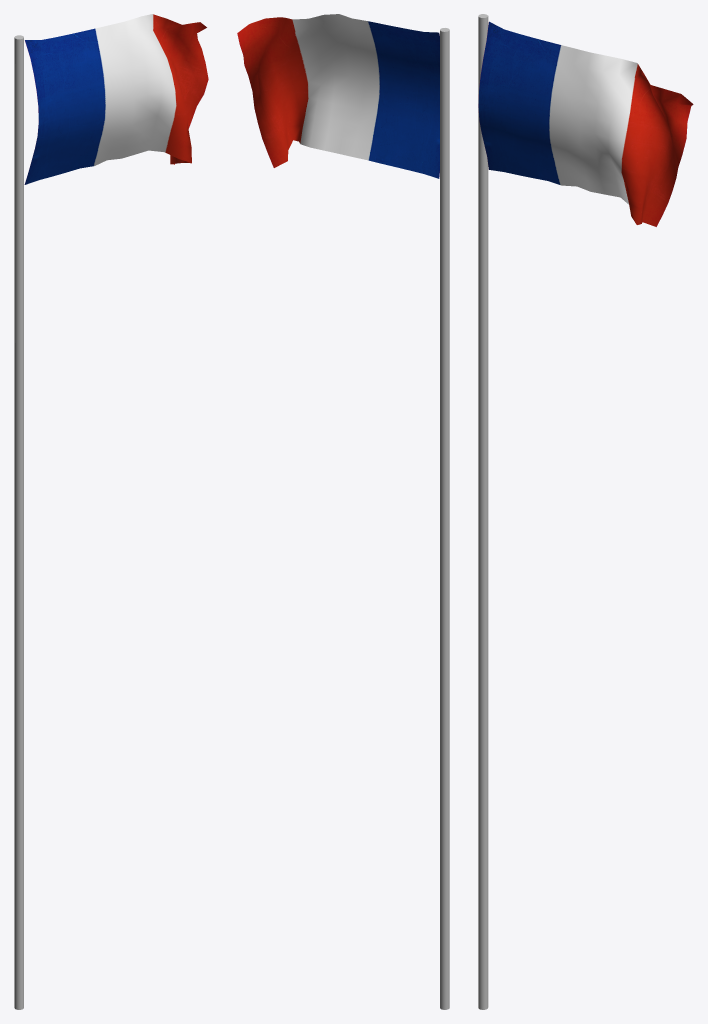
Rendered from Flag_France.fbx.
The picture shows the model from 3 angles, left to right: view 1: azimuth 30°, elevation 25°; view 2: azimuth 150°, elevation 25°; view 3: azimuth 330°, elevation 25°; orthographic projection. The views are drawn at different scales.
Parts seen in each view (by area): view 1: France_Back, Pole, France_Front; view 2: France_Back, Pole, France_Front; view 3: France_Back, Pole, France_Front.
Part boxes in pixels (x1,y1,x2,y2): France_Back: (24,14,208,184); Pole: (14,35,23,1009); France_Front: (26,15,207,183); France_Back: (237,14,439,178); Pole: (440,28,449,1009); France_Front: (239,14,439,177); France_Back: (478,21,693,226); Pole: (478,14,488,1009); France_Front: (478,23,691,226).
Bounding box in the file's own units: 198 × 914 × 42.81.
